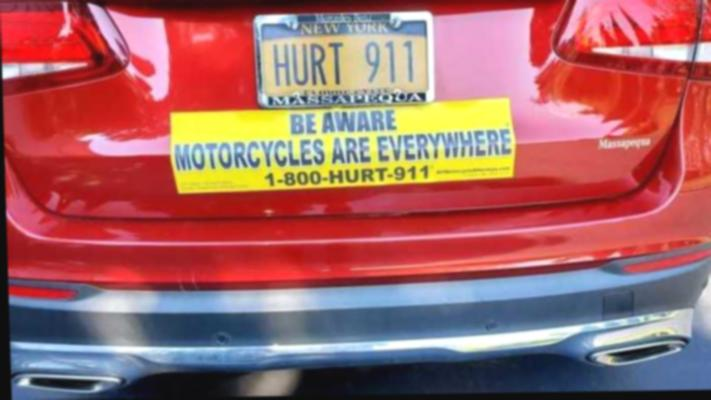License_Plate: (259, 22, 430, 96)
